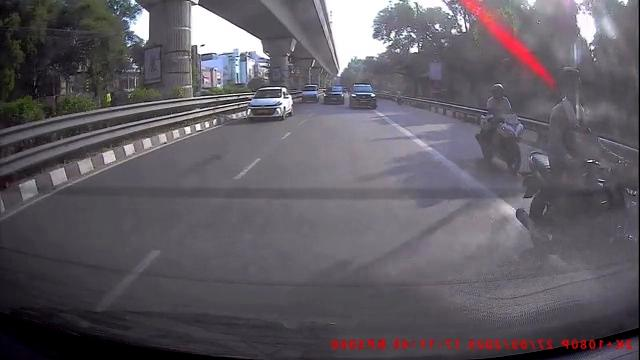motorcycle_with_helmet: (475, 81, 522, 173)
motorcycle_without_helmet: (525, 65, 636, 298)
